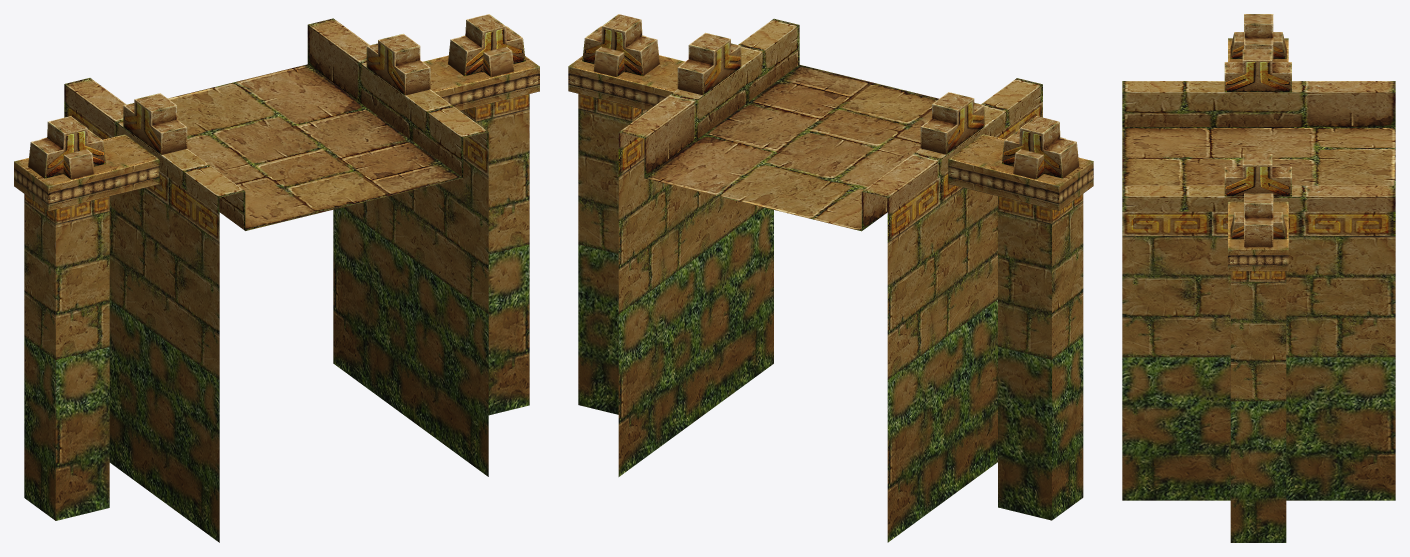
File: TempleRoad02.FBX
The picture shows the model from 3 angles, left to right: view 1: azimuth 30°, elevation 25°; view 2: azimuth 150°, elevation 25°; view 3: azimuth 270°, elevation 25°; orthographic projection. The views are drawn at different scales.
Parts seen in each view (by area): view 1: TempleRoad02; view 2: TempleRoad02; view 3: TempleRoad02.
Boxes of the visible parts, x1,y1,x2,y2 form: TempleRoad02: (14, 14, 539, 542); TempleRoad02: (568, 14, 1093, 542); TempleRoad02: (1122, 14, 1395, 542).
Bounding box in the file's own units: 913 × 677 × 500.
